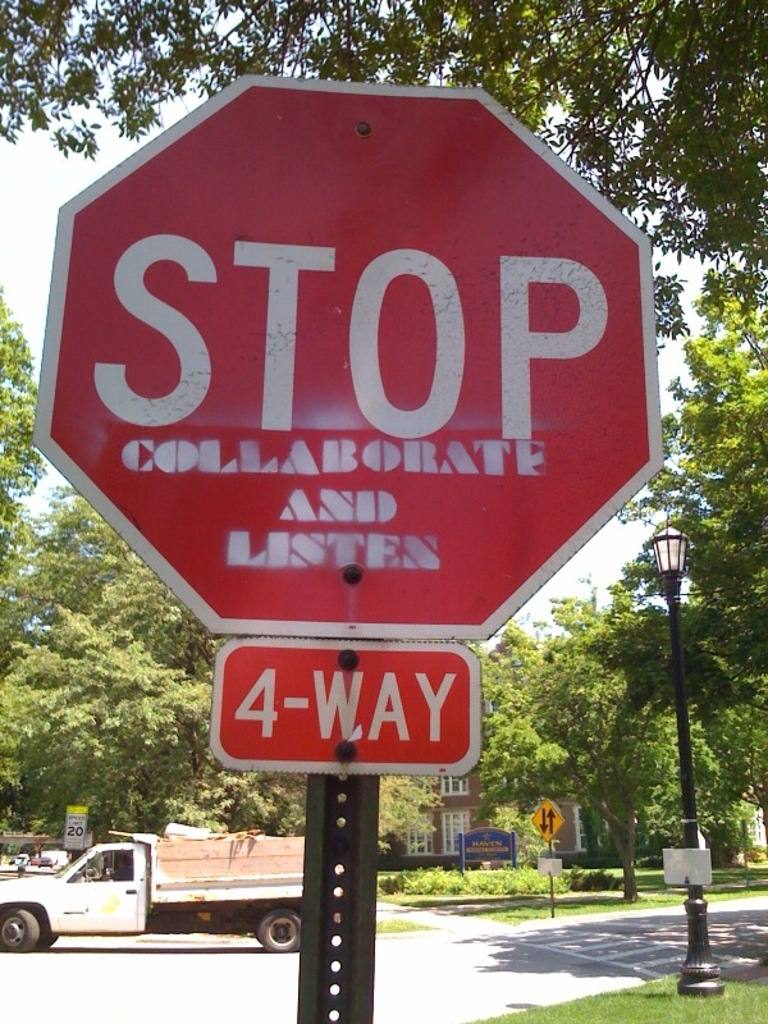stop_sign: (37, 77, 662, 639)
